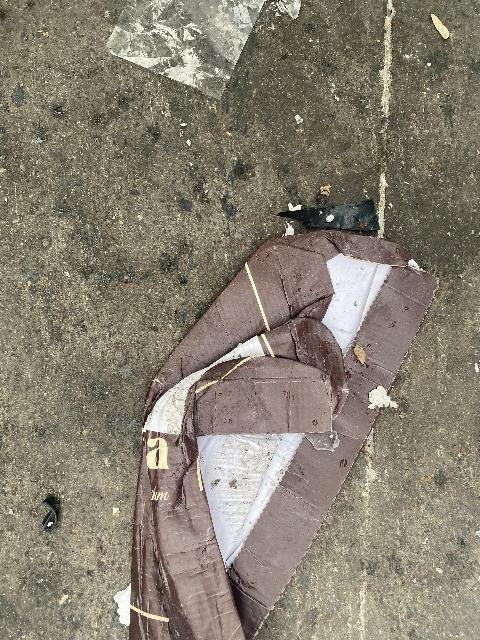Kagit: (90, 241, 470, 640), (277, 199, 380, 231)
Organik: (422, 5, 456, 40)
Plastik: (108, 0, 269, 98), (32, 481, 60, 538)
